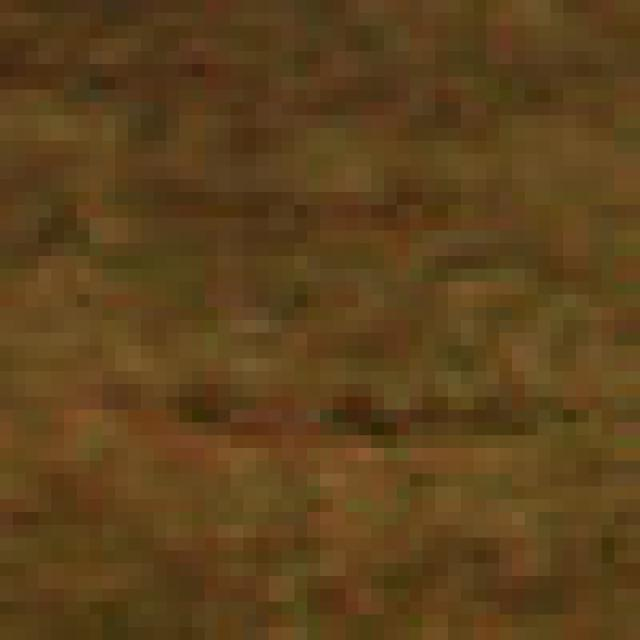no_fire: (0, 25, 614, 640)
